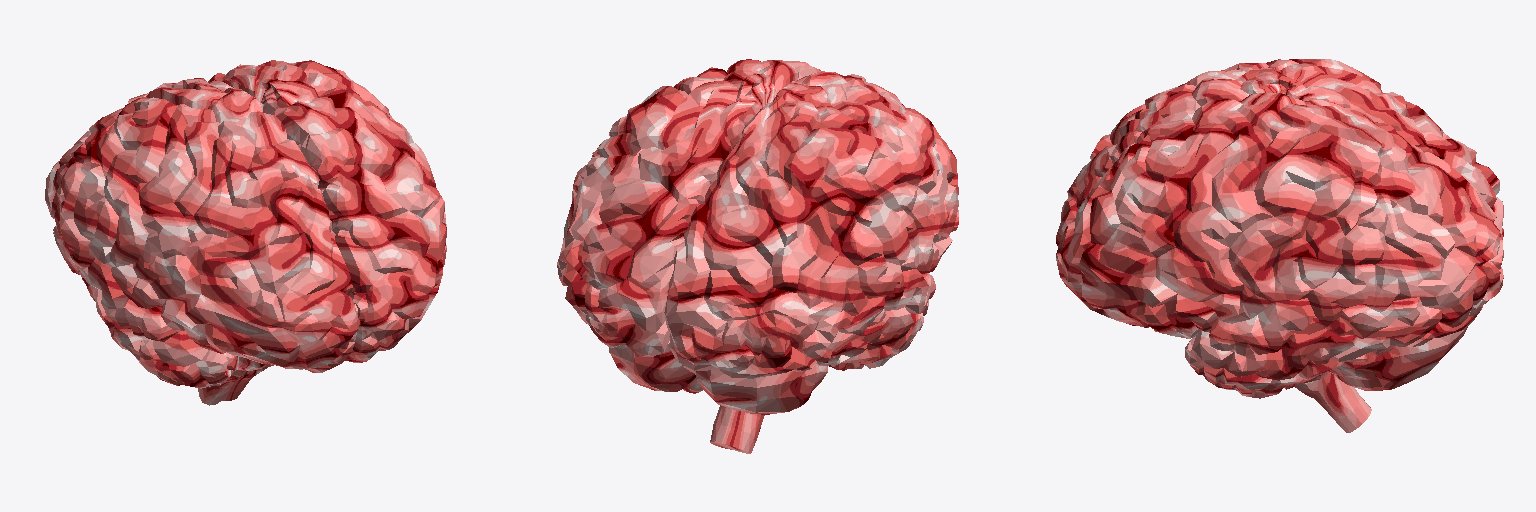
3 renders of one model, left to right at view 1: azimuth 30°, elevation 25°; view 2: azimuth 150°, elevation 25°; view 3: azimuth 270°, elevation 25°, orthographic.
Visible parts, largest first — view 1: Brain; view 2: Brain; view 3: Brain.
Part boxes in pixels (x1,y1,x2,y2): Brain: (45,60,446,405); Brain: (557,59,958,453); Brain: (1056,59,1503,432).
Size of the model in its own units: 4.11 by 4.21 by 5.01.
1 materials, 1 textured.